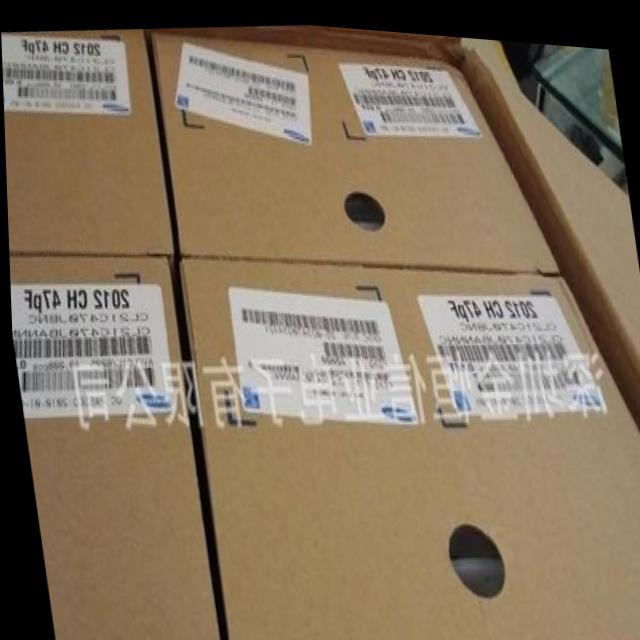box: (178, 23, 640, 431), (179, 255, 640, 640), (151, 30, 555, 257), (7, 249, 214, 640), (1, 28, 171, 249)
